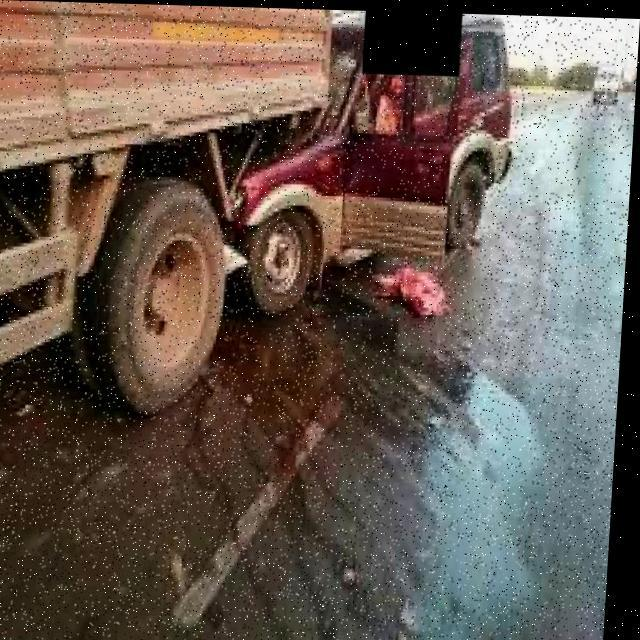multiple_accident: (189, 0, 443, 427)
